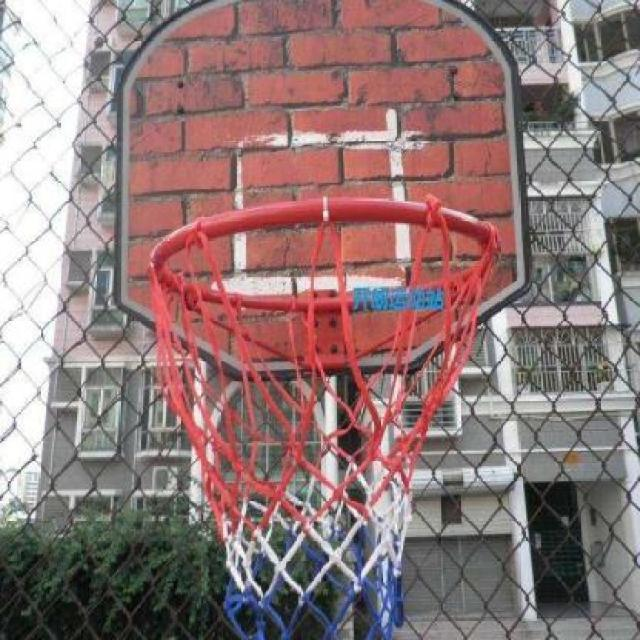rim: (150, 192, 502, 640)
